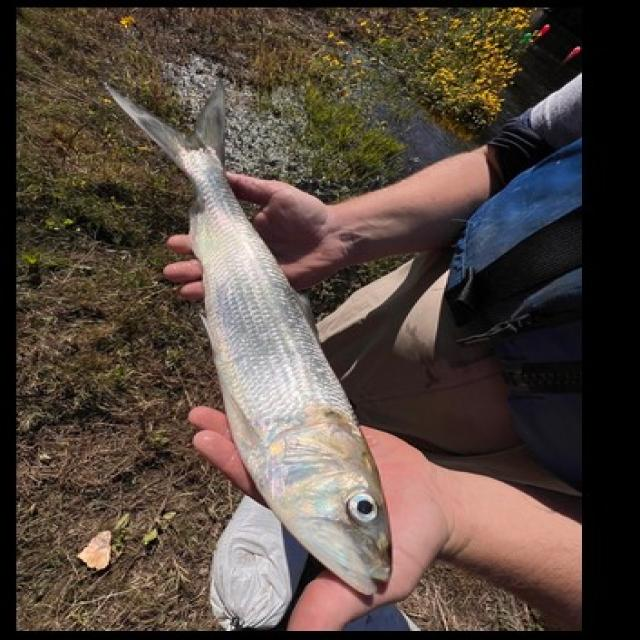Shad - American: (107, 85, 392, 594)
